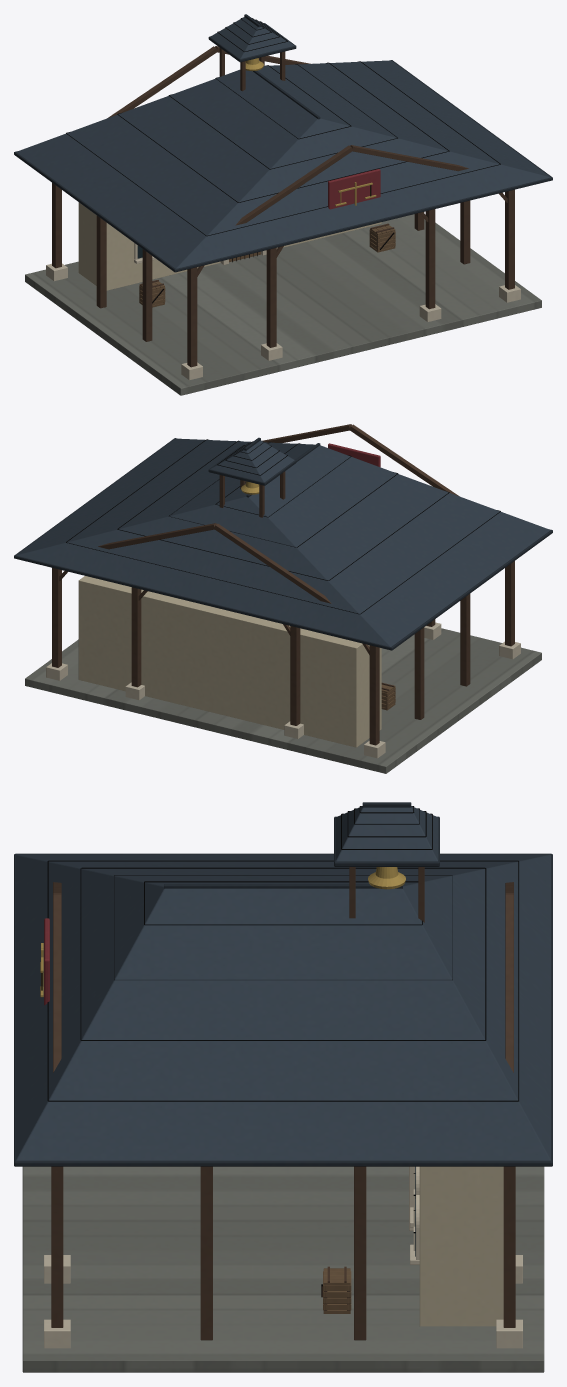
File: Market_Hall.fbx
3 views of the same model, one above another, from view 1: azimuth 30°, elevation 25°; view 2: azimuth 150°, elevation 25°; view 3: azimuth 270°, elevation 25° (orthographic). The views are drawn at different scales.
Visible parts, largest first — view 1: Market_Hall.001; view 2: Market_Hall.001; view 3: Market_Hall.001.
Part boxes in pixels (x1,y1,x2,y2): Market_Hall.001: [14, 14, 552, 395]; Market_Hall.001: [14, 424, 552, 773]; Market_Hall.001: [14, 802, 552, 1372].
Size of the model in its own units: 19.06 by 12.16 by 14.06.
